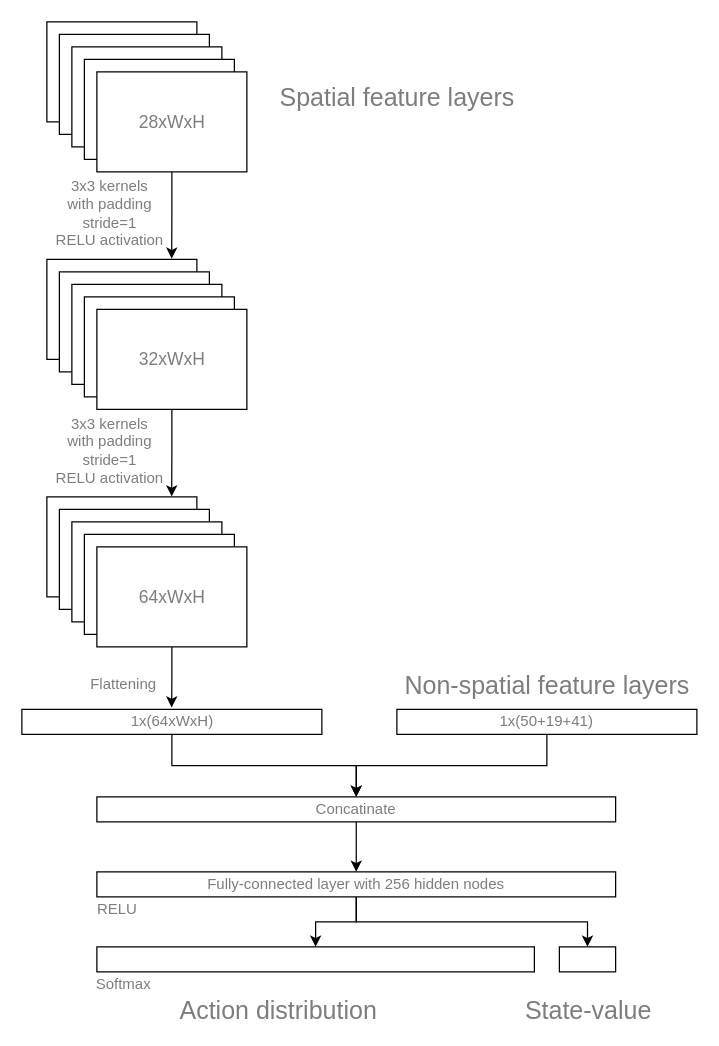
The diagram is 719 pixels wide and 1046 high, and some of its shapes have lost their labels. Each missing label, with the centre of its shape:
"1x(19 + 17xWxH)" belongs at point 315,959.
"1x1" belongs at point 587,959.
